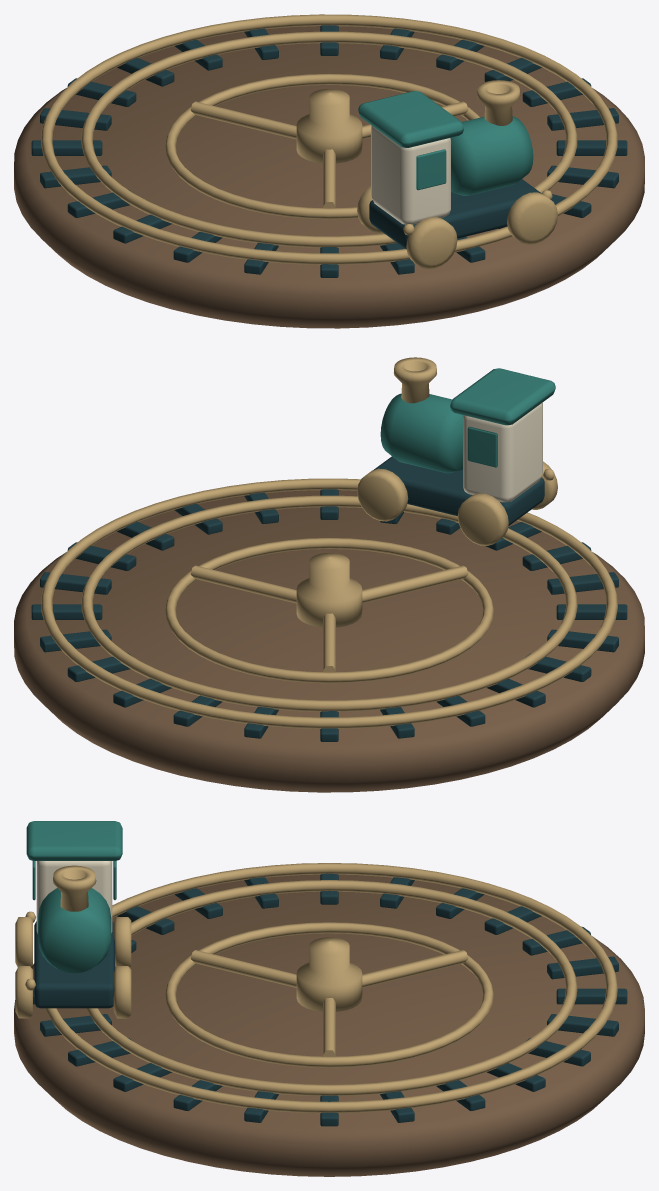
Rendered from clockwork_rail_workshop_atelier.glb.
3 views of the same model, one above another, from view 1: azimuth 30°, elevation 25°; view 2: azimuth 150°, elevation 25°; view 3: azimuth 270°, elevation 25° (orthographic).
Parts seen in each view (by area): view 1: clockwork_rail_workshop_atelier__TaggedPainted_clockwork_rai, clockwork_rail_workshop_atelier__Painted_clockwork_rail_work (×2); view 2: clockwork_rail_workshop_atelier__TaggedPainted_clockwork_rai, clockwork_rail_workshop_atelier__Painted_clockwork_rail_work (×2); view 3: clockwork_rail_workshop_atelier__TaggedPainted_clockwork_rai, clockwork_rail_workshop_atelier__Painted_clockwork_rail_work (×2).
Boxes of the visible parts, <box> form: clockwork_rail_workshop_atelier__TaggedPainted_clockwork_rai: <box>14,25,644,328</box>; clockwork_rail_workshop_atelier__Painted_clockwork_rail_work (×2): <box>41,14,617,269</box>; clockwork_rail_workshop_atelier__TaggedPainted_clockwork_rai: <box>14,456,644,792</box>; clockwork_rail_workshop_atelier__Painted_clockwork_rail_work (×2): <box>41,357,617,728</box>; clockwork_rail_workshop_atelier__TaggedPainted_clockwork_rai: <box>14,873,644,1176</box>; clockwork_rail_workshop_atelier__Painted_clockwork_rail_work (×2): <box>15,821,617,1113</box>.
Bounding box in the file's own units: 2.5 × 0.86 × 2.5.
